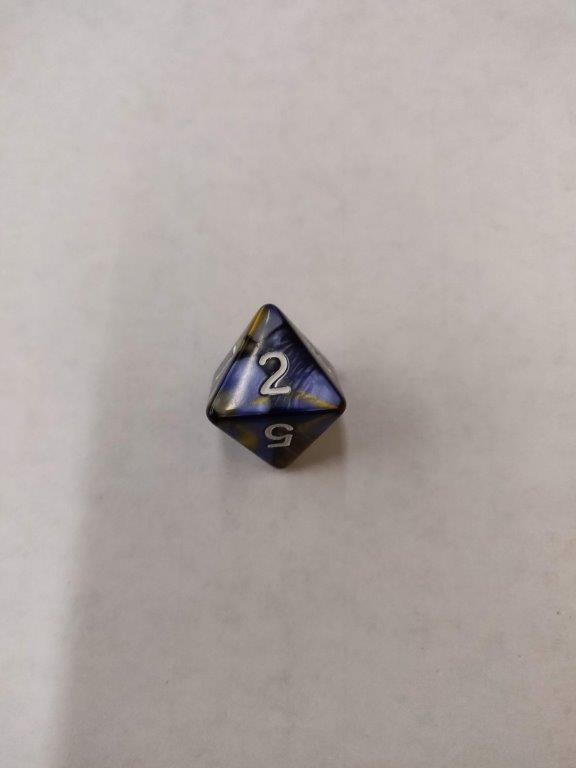d8-2: (205, 304, 348, 470)
